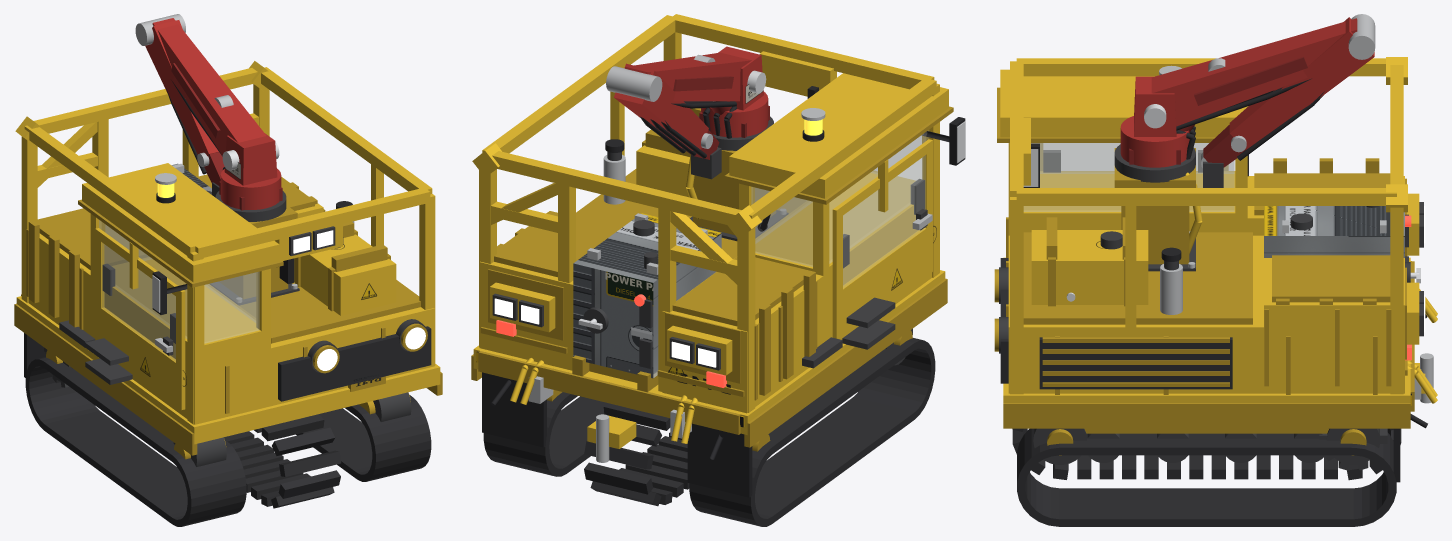
3 renders of one model, left to right at view 1: azimuth 30°, elevation 25°; view 2: azimuth 150°, elevation 25°; view 3: azimuth 270°, elevation 25°, orthographic. The views are drawn at different scales.
Parts seen in each view (by area): view 1: Hull.001, Cab_Structure.001, Tracks.001, RollCage.001, Crane.001, Detail_Hardware.001, Cab_Glazing.001, Crane_Pedestal.001, Undercarriage.001, WorkLamps.001; view 2: Hull.001, RollCage.001, Cab_Structure.001, Tracks.001, Crane.001, PowerPack_Body.001, Detail_Hardware.001, Cab_Glazing.001, WorkLamps.001, Hose_Runs.001, PowerPack_Hardware.001, Crane_Pedestal.001; view 3: Hull.001, Tracks.001, RollCage.001, Crane.001, Cab_Structure.001, Detail_Hardware.001, PowerPack_Body.001, Undercarriage.001, Crane_Pedestal.001, Cab_Glazing.001, Hose_Runs.001, WorkLamps.001 (+1 smaller).
Boxes of the visible parts, box(x1,y1,x2,y2) form: Hull.001: box(14, 174, 442, 455); Cab_Structure.001: box(78, 163, 283, 424); Tracks.001: box(25, 357, 431, 526); RollCage.001: box(15, 61, 435, 424); Crane.001: box(135, 14, 282, 210); Detail_Hardware.001: box(85, 173, 396, 384); Cab_Glazing.001: box(99, 220, 259, 361); Crane_Pedestal.001: box(210, 191, 299, 305); Undercarriage.001: box(44, 347, 411, 466); WorkLamps.001: box(275, 224, 342, 260); Hull.001: box(471, 169, 947, 497); RollCage.001: box(472, 14, 939, 412); Cab_Structure.001: box(724, 73, 953, 342); Tracks.001: box(483, 338, 935, 526); Crane.001: box(606, 46, 769, 179); PowerPack_Body.001: box(573, 213, 721, 378); Detail_Hardware.001: box(492, 86, 965, 370); Cab_Glazing.001: box(751, 130, 928, 288); WorkLamps.001: box(488, 51, 836, 387); Hose_Runs.001: box(491, 101, 736, 459); PowerPack_Hardware.001: box(572, 213, 707, 392); Crane_Pedestal.001: box(682, 116, 788, 241); Hull.001: box(994, 158, 1433, 482); Tracks.001: box(1012, 428, 1401, 526); RollCage.001: box(1010, 57, 1407, 394); Crane.001: box(1120, 14, 1375, 187); Cab_Structure.001: box(997, 69, 1248, 235); Detail_Hardware.001: box(1023, 65, 1423, 336); PowerPack_Body.001: box(1264, 206, 1404, 257); Undercarriage.001: box(1033, 428, 1387, 470); Crane_Pedestal.001: box(1114, 144, 1195, 271); Cab_Glazing.001: box(1024, 143, 1234, 211); Hose_Runs.001: box(1176, 78, 1437, 428); WorkLamps.001: box(1023, 118, 1425, 360).
Size of the model in its own units: 2.69 by 3.58 by 3.27.
21 materials, 7 textured.
